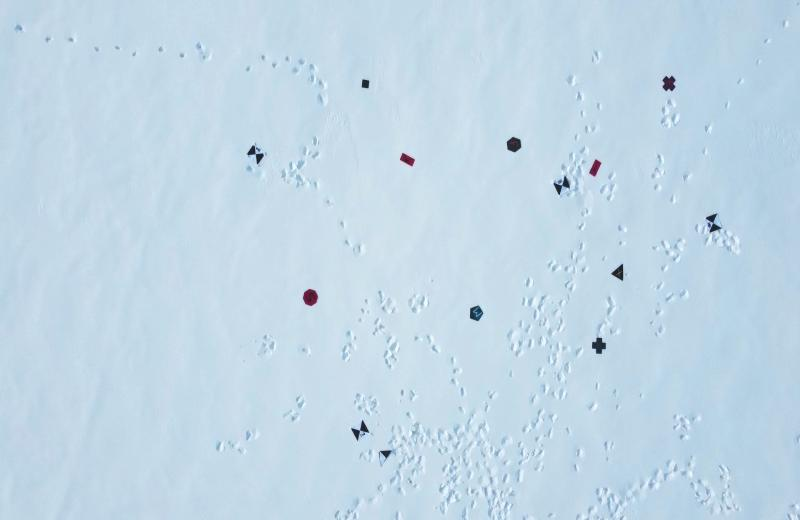Cross: (592, 336, 606, 355), (662, 76, 677, 92)
Hexagon: (506, 135, 522, 153)
Octagon: (301, 287, 319, 307)
Pentagon: (469, 303, 485, 322)
Rectangle: (588, 158, 602, 177), (399, 152, 415, 168)
Square: (360, 79, 370, 90)
Triangle: (610, 262, 626, 282)
